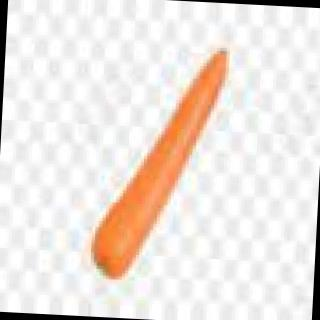Wortel: (46, 31, 260, 294)
